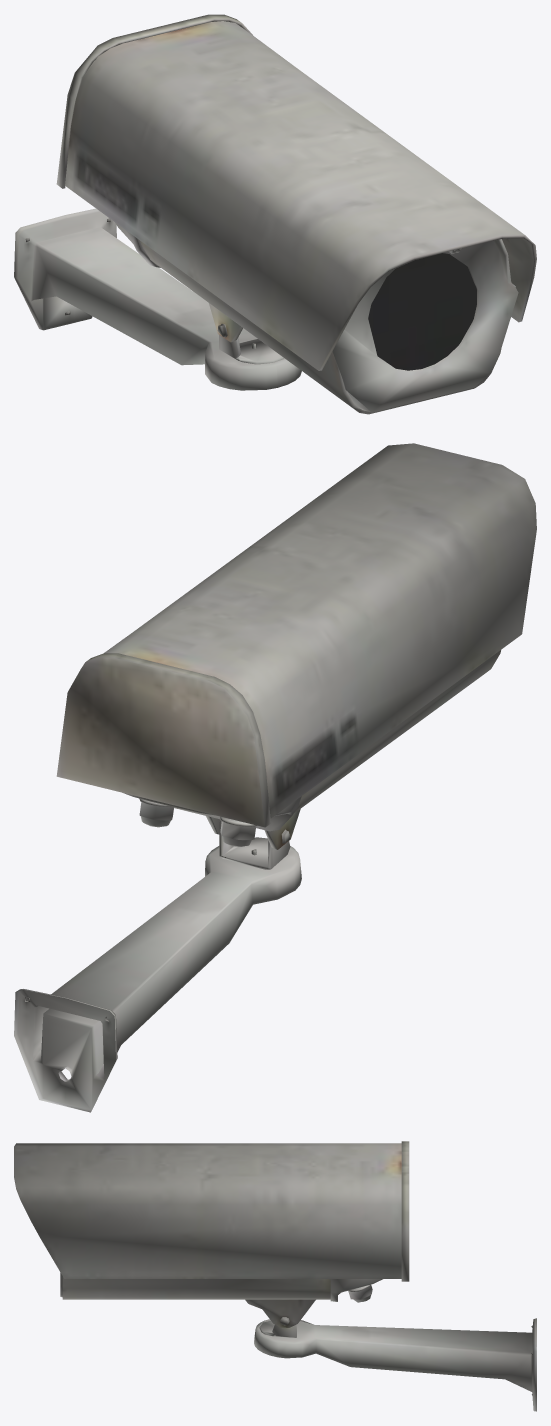
File: security_camera_01.glb
3 renders of one model, top to bottom at view 1: azimuth 30°, elevation 25°; view 2: azimuth 150°, elevation 25°; view 3: azimuth 270°, elevation 25°, orthographic. The views are drawn at different scales.
Visible parts, largest first — view 1: security_camera_01; view 2: security_camera_01; view 3: security_camera_01.
Boxes of the visible parts, left/top/right/bottom form: security_camera_01: left=14, top=14, right=536, bottom=414; security_camera_01: left=14, top=443, right=536, bottom=1112; security_camera_01: left=14, top=1141, right=536, bottom=1411.
Bounding box in the file's own units: 0.1696 × 0.2848 × 0.5536.
2 materials, 2 textured.
